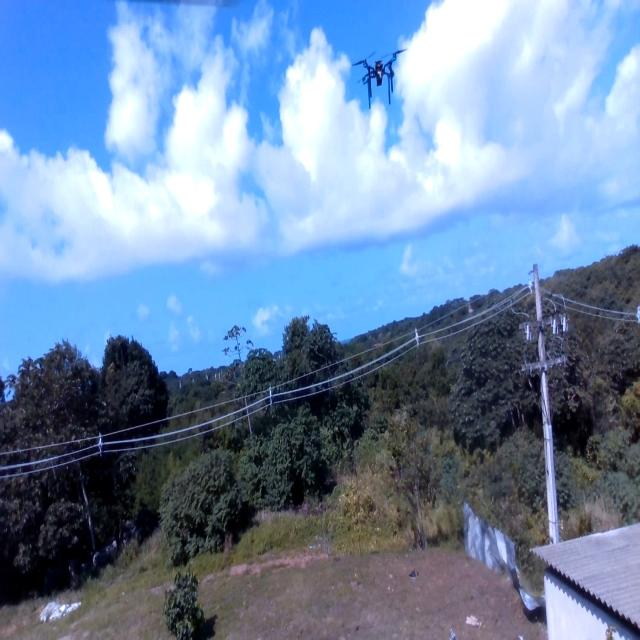-uav-: (345, 21, 411, 124)
